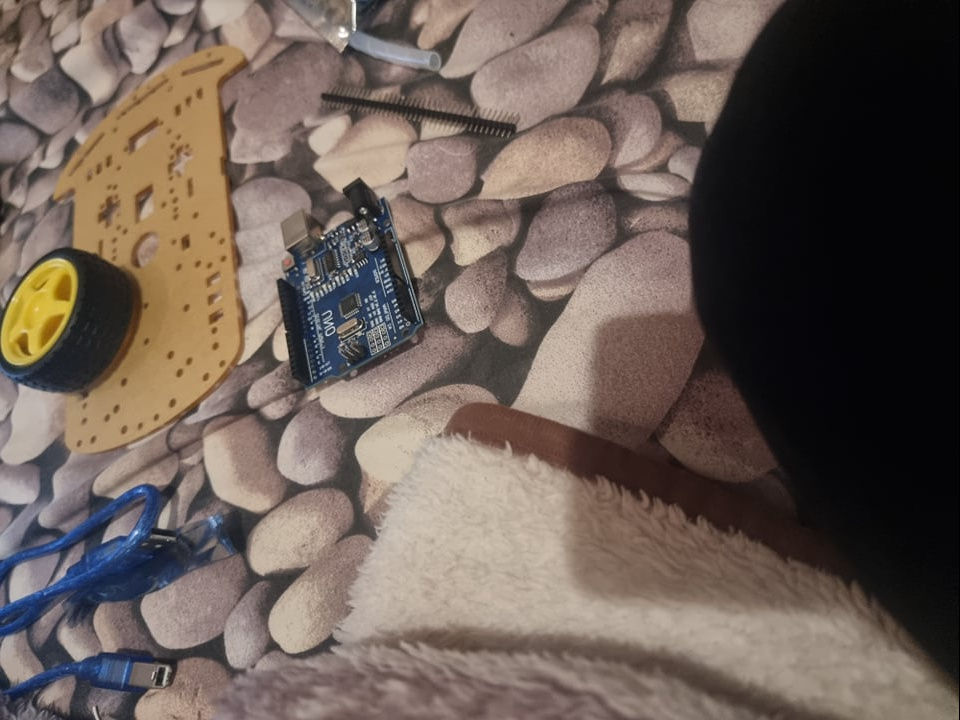UNO R3: (277, 179, 427, 388)
